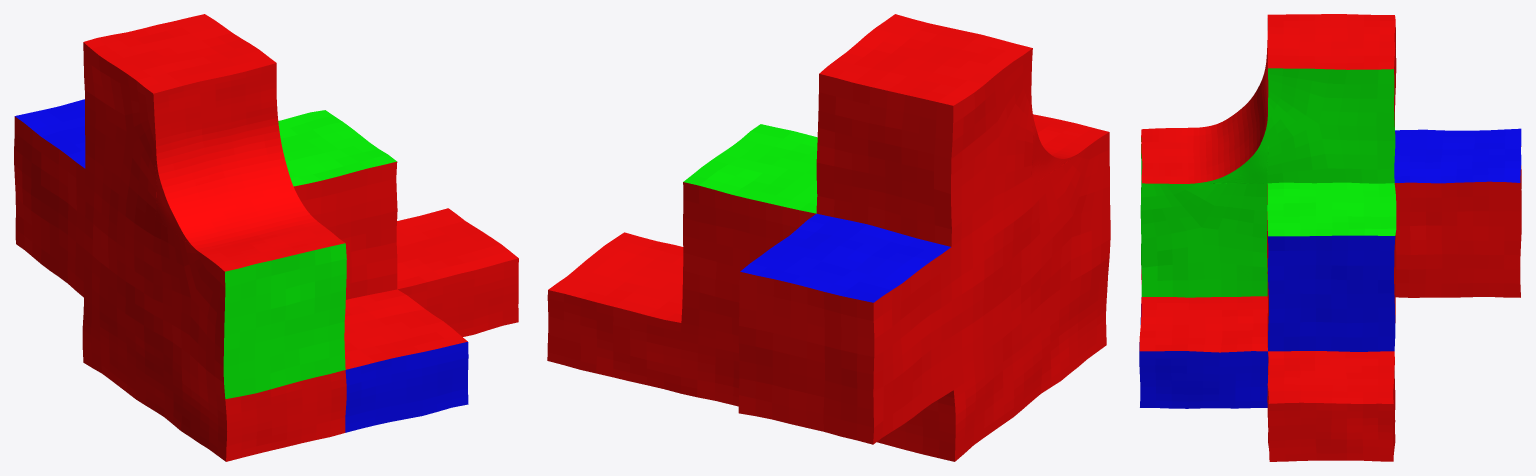
Rendered from ColorBlocks2.fbx.
The picture shows the model from 3 angles, left to right: view 1: azimuth 30°, elevation 25°; view 2: azimuth 150°, elevation 25°; view 3: azimuth 270°, elevation 25°; orthographic projection. The views are drawn at different scales.
Parts seen in each view (by area): view 1: Cube; view 2: Cube; view 3: Cube.
Boxes of the visible parts, <box> form: Cube: <box>14,14,518,461</box>; Cube: <box>547,14,1110,461</box>; Cube: <box>1139,14,1521,461</box>.
Size of the model in its own units: 605 by 506 by 606.
